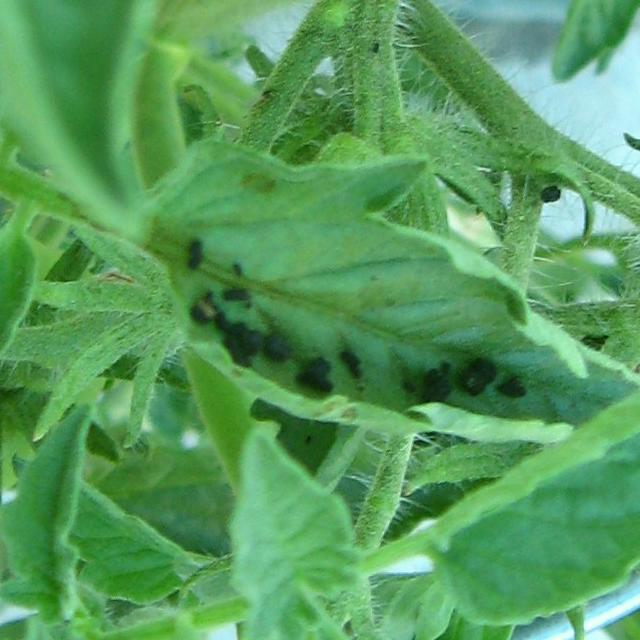Tomato leaf: (404, 281, 640, 614)
